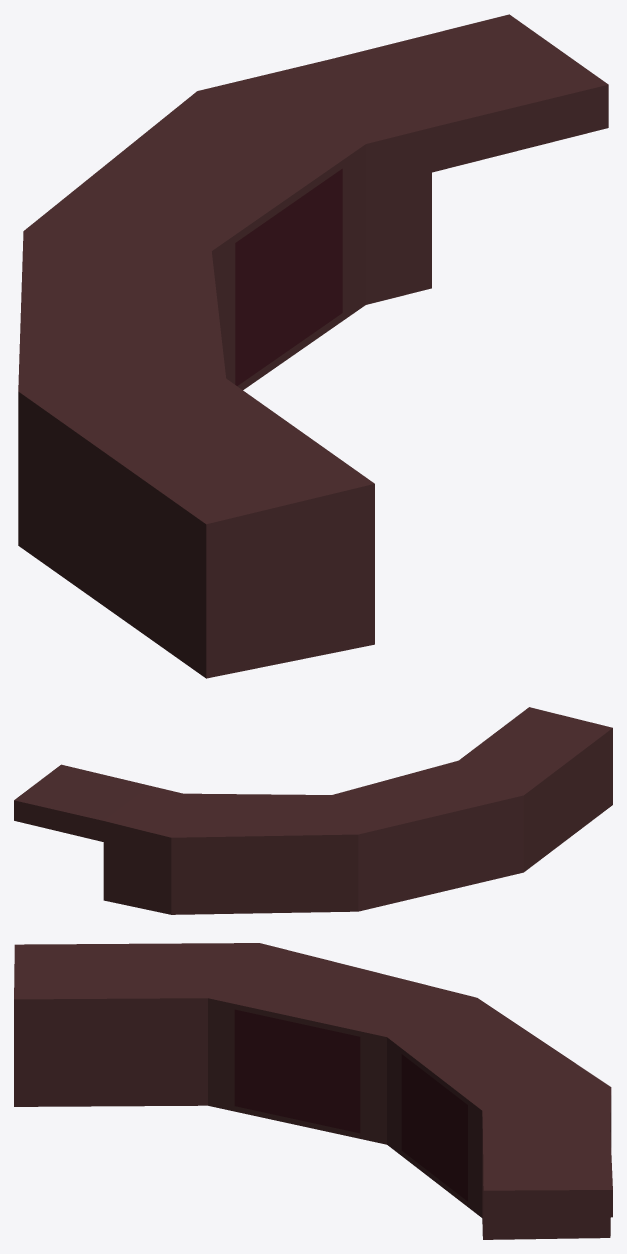
File: Bar.fbx
3 renders of one model, top to bottom at view 1: azimuth 30°, elevation 25°; view 2: azimuth 150°, elevation 25°; view 3: azimuth 270°, elevation 25°, orthographic. The views are drawn at different scales.
Visible parts, largest first — view 1: Bar; view 2: Bar; view 3: Bar.
Part boxes in pixels (box(x1,y1,x2,y2)): Bar: box(18, 14, 608, 678); Bar: box(14, 707, 612, 914); Bar: box(14, 943, 612, 1239).
Bounding box in the file's own units: 758 × 154 × 776.
